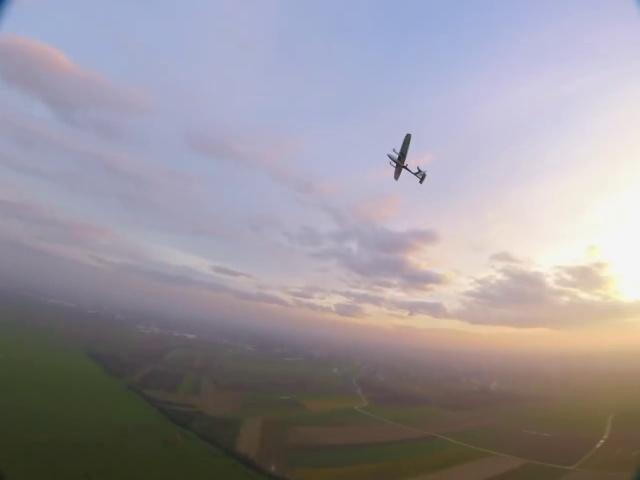Airplane: (380, 128, 430, 191)
